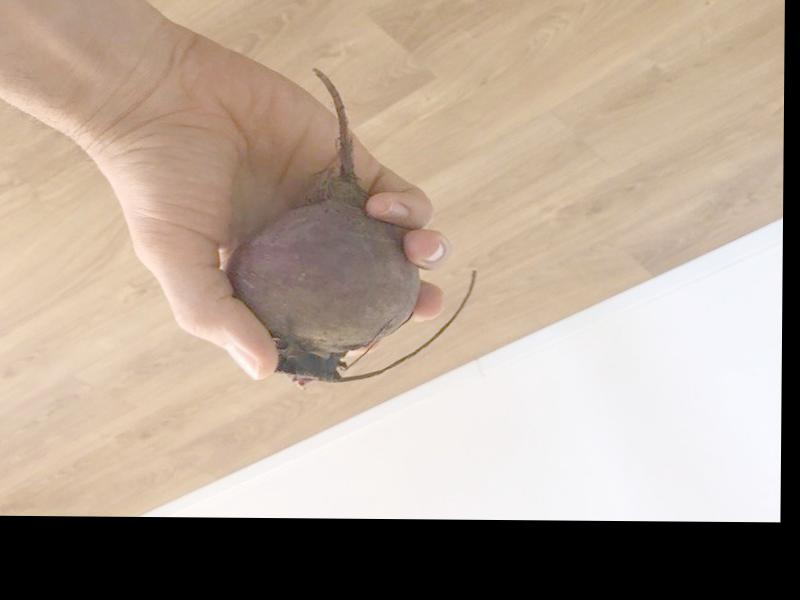Beet: (227, 69, 481, 389)
